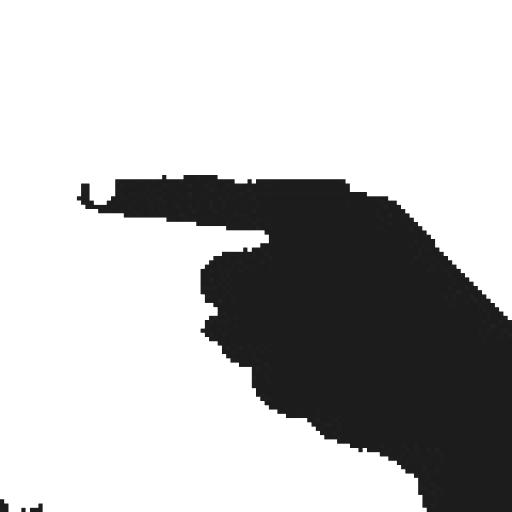index_left: (75, 170, 512, 437)
